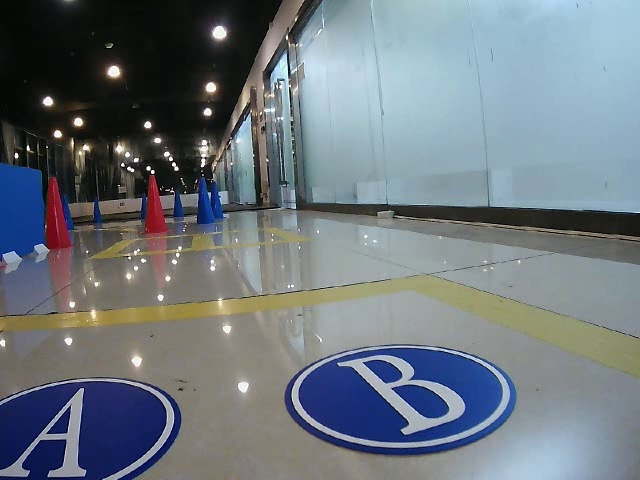A: (3, 378, 178, 476)
B: (282, 345, 519, 450)
